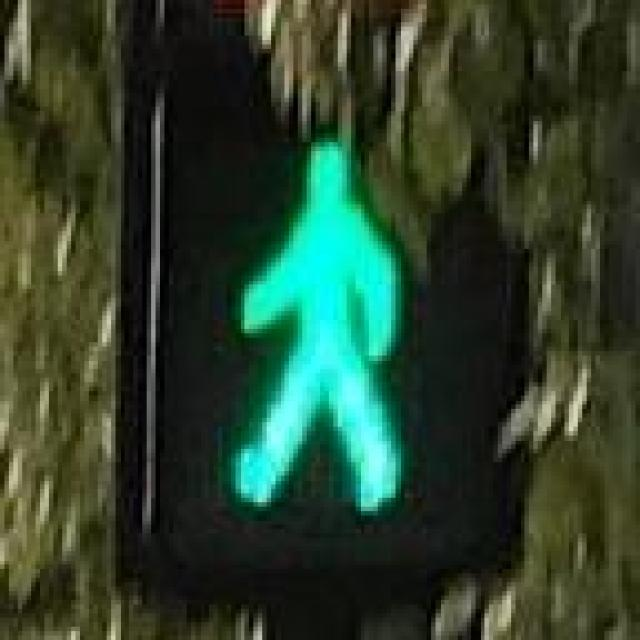geen-crossing: (169, 102, 467, 529)
